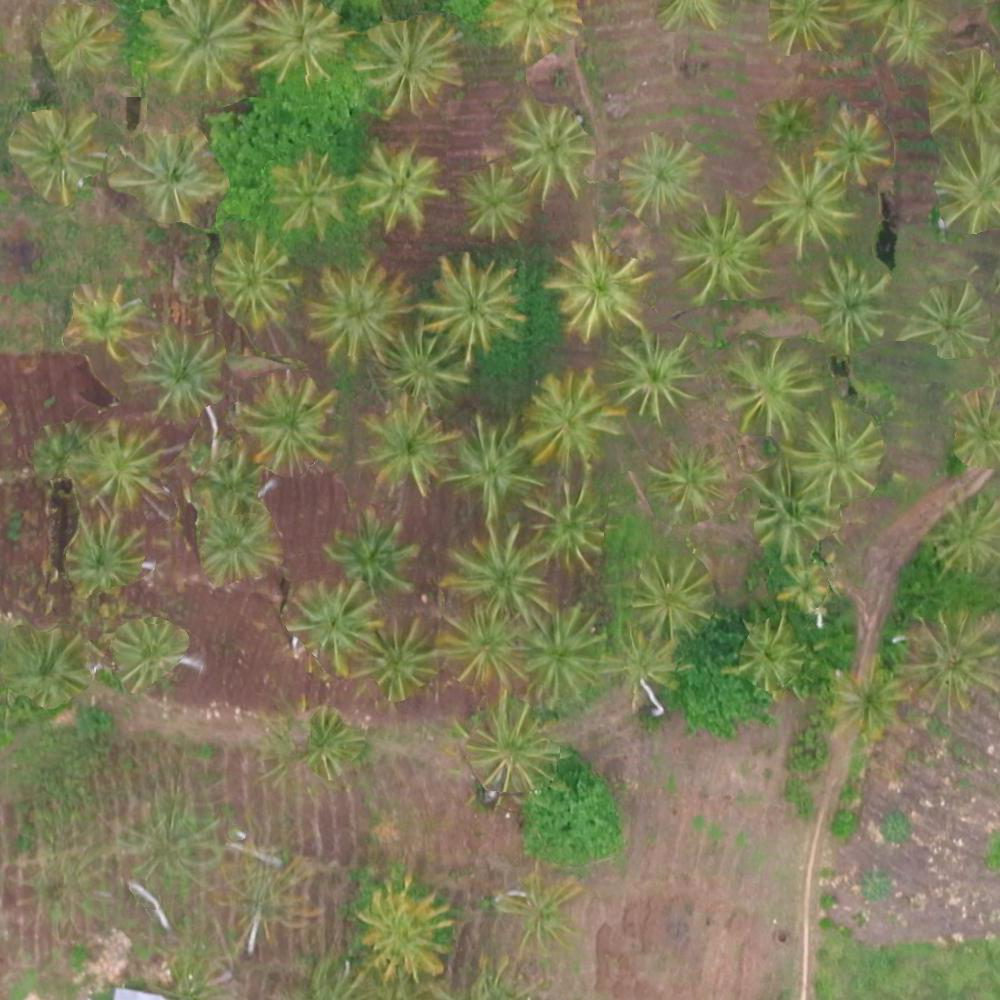Palm: (445, 526, 551, 626), (349, 884, 449, 984), (671, 198, 767, 302), (117, 129, 219, 225), (425, 255, 527, 351), (140, 1, 243, 94), (719, 339, 816, 436), (526, 606, 613, 711), (362, 13, 458, 108), (357, 398, 452, 494), (905, 614, 997, 711), (759, 154, 855, 245), (503, 101, 593, 194), (522, 374, 613, 465), (464, 702, 552, 796), (238, 376, 331, 464), (526, 482, 614, 575), (793, 406, 881, 499), (131, 329, 227, 414), (290, 578, 378, 669), (448, 419, 533, 513), (248, 1, 343, 85), (552, 242, 640, 332), (327, 510, 417, 597), (435, 606, 528, 689), (309, 271, 398, 357), (11, 110, 96, 198), (76, 422, 165, 506), (749, 472, 838, 556), (610, 329, 697, 414), (922, 145, 1000, 239), (354, 146, 442, 229), (378, 328, 471, 405), (352, 618, 433, 704), (908, 282, 994, 363), (924, 51, 1000, 141), (620, 136, 702, 219), (807, 260, 888, 344), (625, 559, 713, 636), (213, 241, 294, 324), (197, 502, 278, 584), (267, 156, 351, 235), (600, 627, 681, 708), (647, 448, 728, 524), (4, 632, 85, 707), (486, 1, 583, 61), (294, 707, 369, 784), (815, 108, 891, 183), (65, 521, 145, 591), (732, 616, 804, 693), (455, 163, 530, 236), (829, 662, 904, 733), (108, 618, 183, 685), (38, 7, 111, 75), (70, 285, 142, 351), (757, 97, 814, 151)
